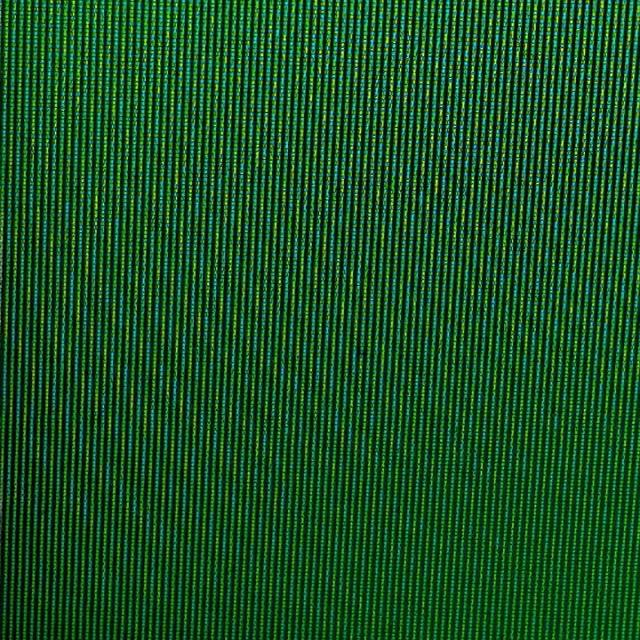Dead pixel: (358, 352, 365, 356)
